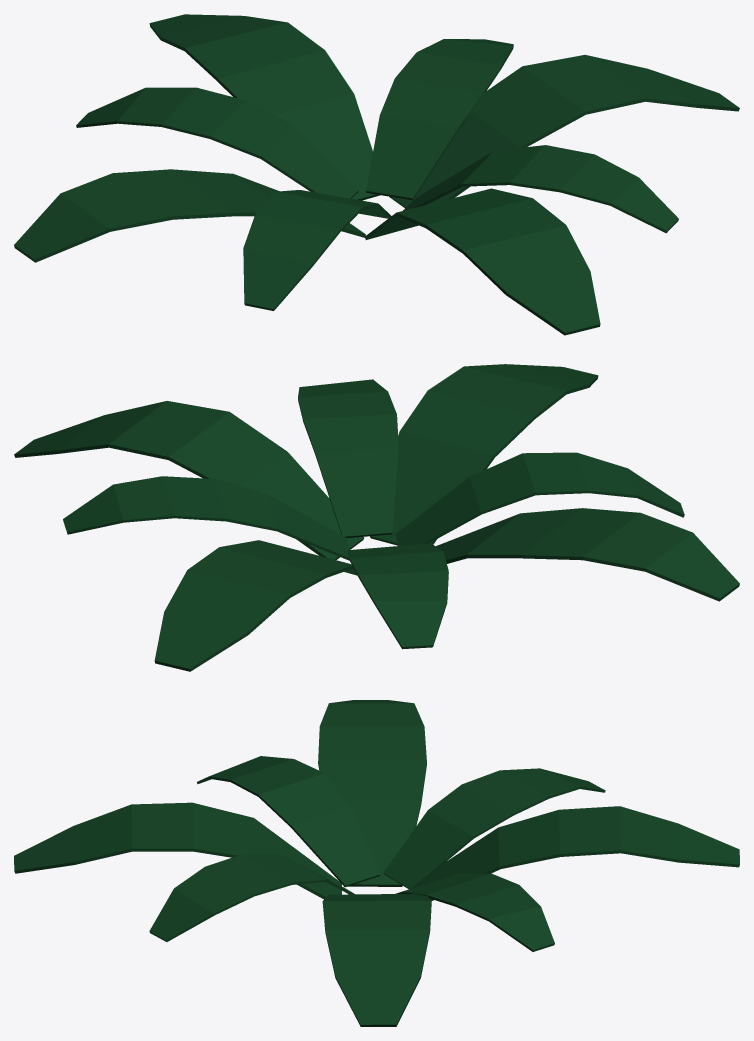
Rendered from Cliff_bush.fbx.
The picture shows the model from 3 angles, top to bottom: view 1: azimuth 30°, elevation 25°; view 2: azimuth 150°, elevation 25°; view 3: azimuth 270°, elevation 25°; orthographic projection. The views are drawn at different scales.
Visible parts, largest first — view 1: Plane.008; view 2: Plane.008; view 3: Plane.008.
Boxes of the visible parts, x1,y1,x2,y2 form: Plane.008: [14, 14, 739, 335]; Plane.008: [14, 364, 739, 671]; Plane.008: [14, 700, 739, 1026].
Size of the model in its own units: 0.8191 by 0.8285 by 0.0944.
